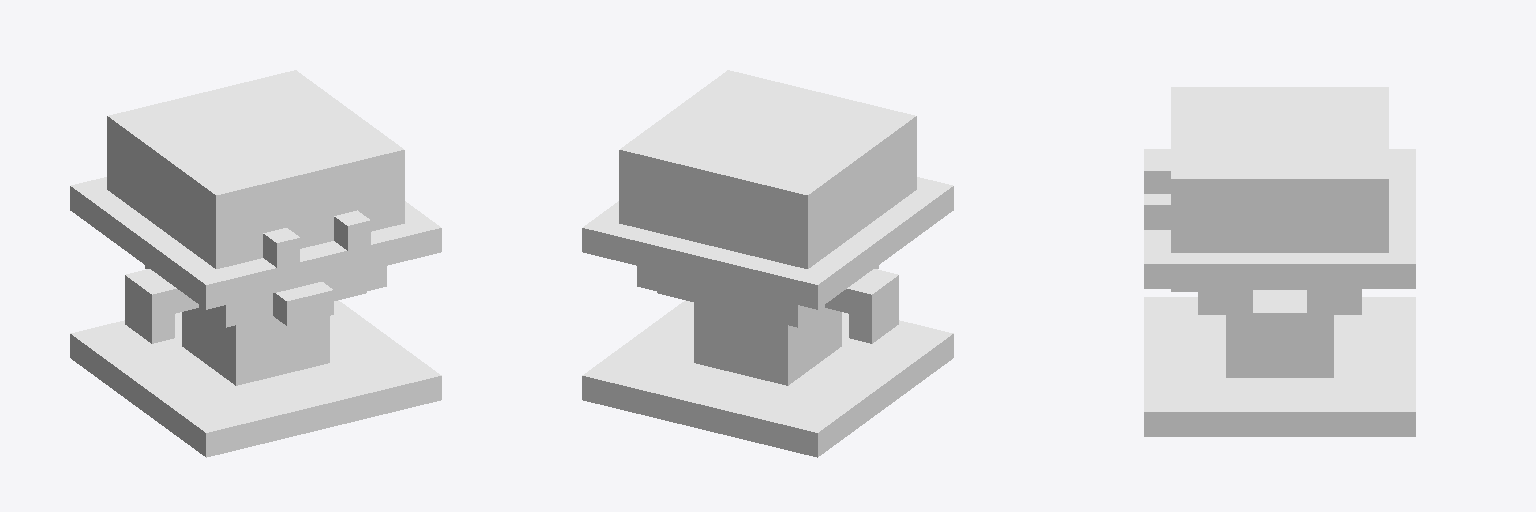
The model's file is blackfullbody.obj.
3 renders of one model, left to right at view 1: azimuth 30°, elevation 25°; view 2: azimuth 150°, elevation 25°; view 3: azimuth 270°, elevation 25°, orthographic.
Visible parts, largest first — view 1: object 1; view 2: object 1; view 3: object 1.
Part boxes in pixels (bbox=[...]): object 1: bbox=[70, 70, 441, 457]; object 1: bbox=[582, 70, 953, 457]; object 1: bbox=[1144, 87, 1415, 436].
Size of the model in its own units: 1 by 1 by 1.